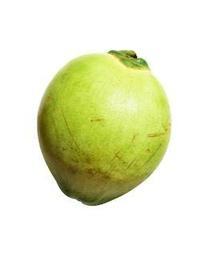coconut: (37, 49, 172, 206)
